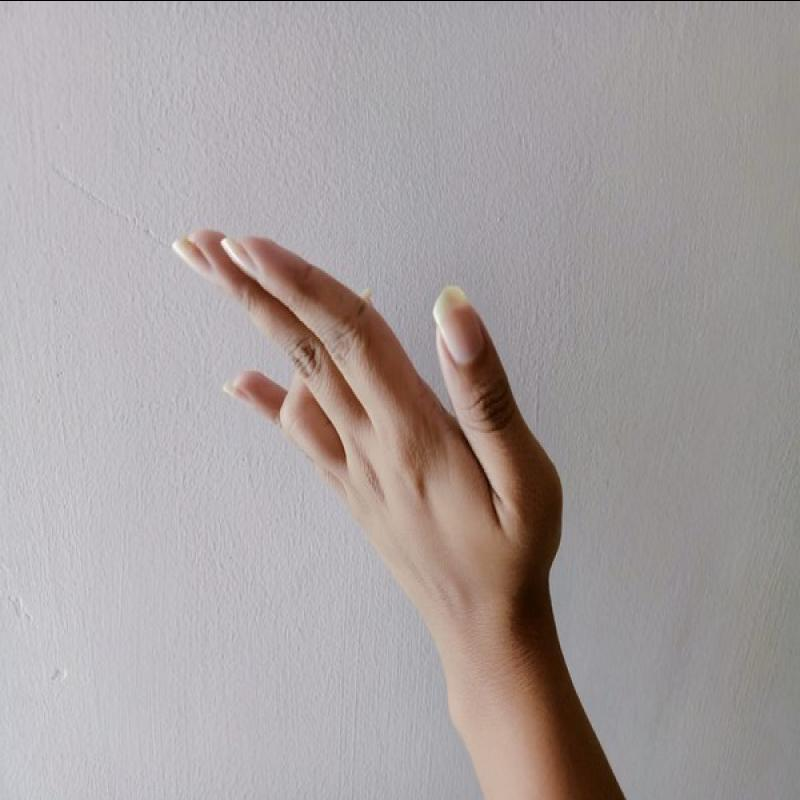Pathaaka: (164, 196, 590, 617)
